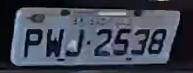Placa_mercosul_carro: (9, 8, 180, 67)
